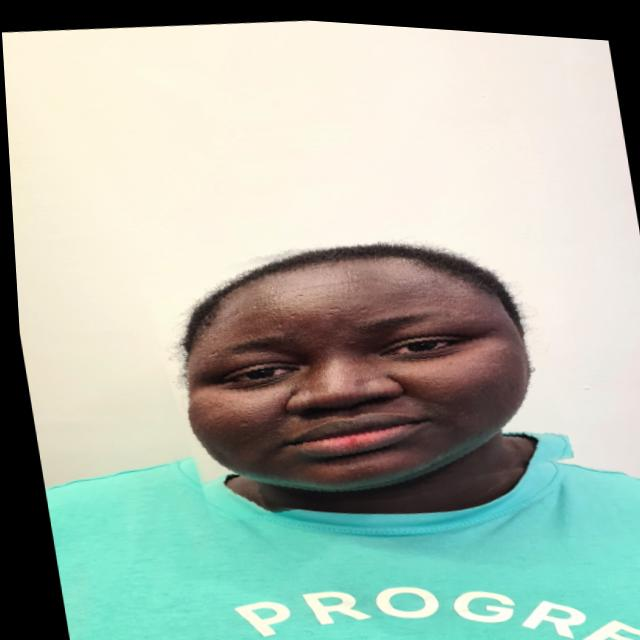sad: (135, 195, 568, 531)
